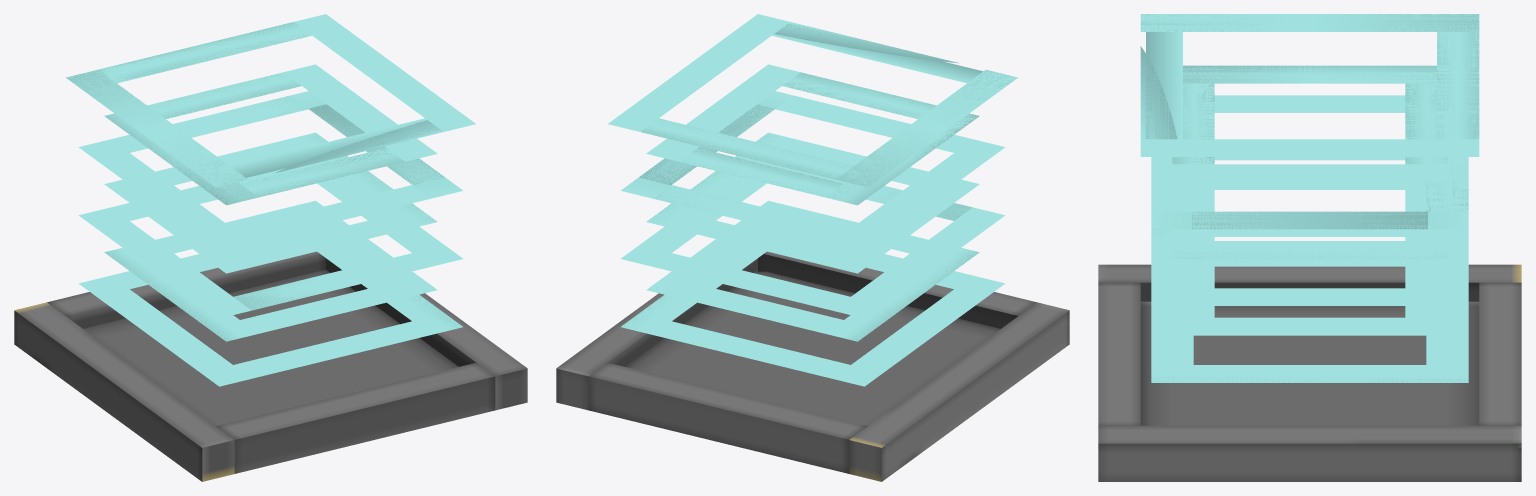
File: rotatePad-lit-1.fbx
3 renders of one model, left to right at view 1: azimuth 30°, elevation 25°; view 2: azimuth 150°, elevation 25°; view 3: azimuth 270°, elevation 25°, orthographic. The views are drawn at different scales.
Visible parts, largest first — view 1: cube, cube_4, cube_2, cube_6, cube_5, cube_26, cube_11, cube_19, cube_1, cube_3, cube_7, cube_8 (+21 smaller); view 2: cube, cube_3, cube_2, cube_6, cube_5, cube_26, cube_11, cube_19, cube_1, cube_4, cube_7, cube_8 (+21 smaller); view 3: cube, cube_1, cube_2, cube_3, cube_4, cube_5, cube_6, cube_28, cube_9, cube_17, cube_15, cube_21 (+21 smaller).
Part boxes in pixels (x1,y1,x2,y2): cube: (83, 269, 458, 425); cube_4: (216, 362, 495, 473); cube_2: (14, 302, 234, 481); cube_6: (294, 14, 475, 131); cube_5: (66, 69, 247, 187); cube_26: (78, 139, 251, 250); cube_11: (78, 275, 251, 386); cube_19: (79, 207, 251, 318); cube_1: (326, 258, 527, 410); cube_3: (47, 251, 325, 328); cube_7: (98, 22, 311, 83); cube_8: (230, 118, 443, 177); cube: (625, 270, 1000, 425); cube_3: (588, 362, 867, 473); cube_2: (849, 302, 1069, 481); cube_6: (608, 14, 789, 131); cube_5: (836, 69, 1017, 187); cube_26: (832, 139, 1005, 250); cube_11: (832, 275, 1005, 386); cube_19: (832, 207, 1004, 318); cube_1: (556, 258, 757, 410); cube_4: (758, 251, 1036, 328); cube_7: (640, 118, 853, 179); cube_8: (772, 22, 982, 83); cube: (1140, 301, 1479, 425); cube_1: (1098, 425, 1521, 481); cube_2: (1098, 264, 1521, 301); cube_3: (1479, 282, 1521, 447); cube_4: (1098, 282, 1140, 425); cube_5: (1140, 14, 1479, 31); cube_6: (1140, 139, 1479, 156); cube_28: (1151, 211, 1468, 229); cube_9: (1151, 365, 1468, 382); cube_17: (1151, 288, 1468, 305); cube_15: (1172, 317, 1447, 335); cube_21: (1172, 241, 1447, 258).
Size of the model in its own units: 62.5 by 50 by 62.5.
